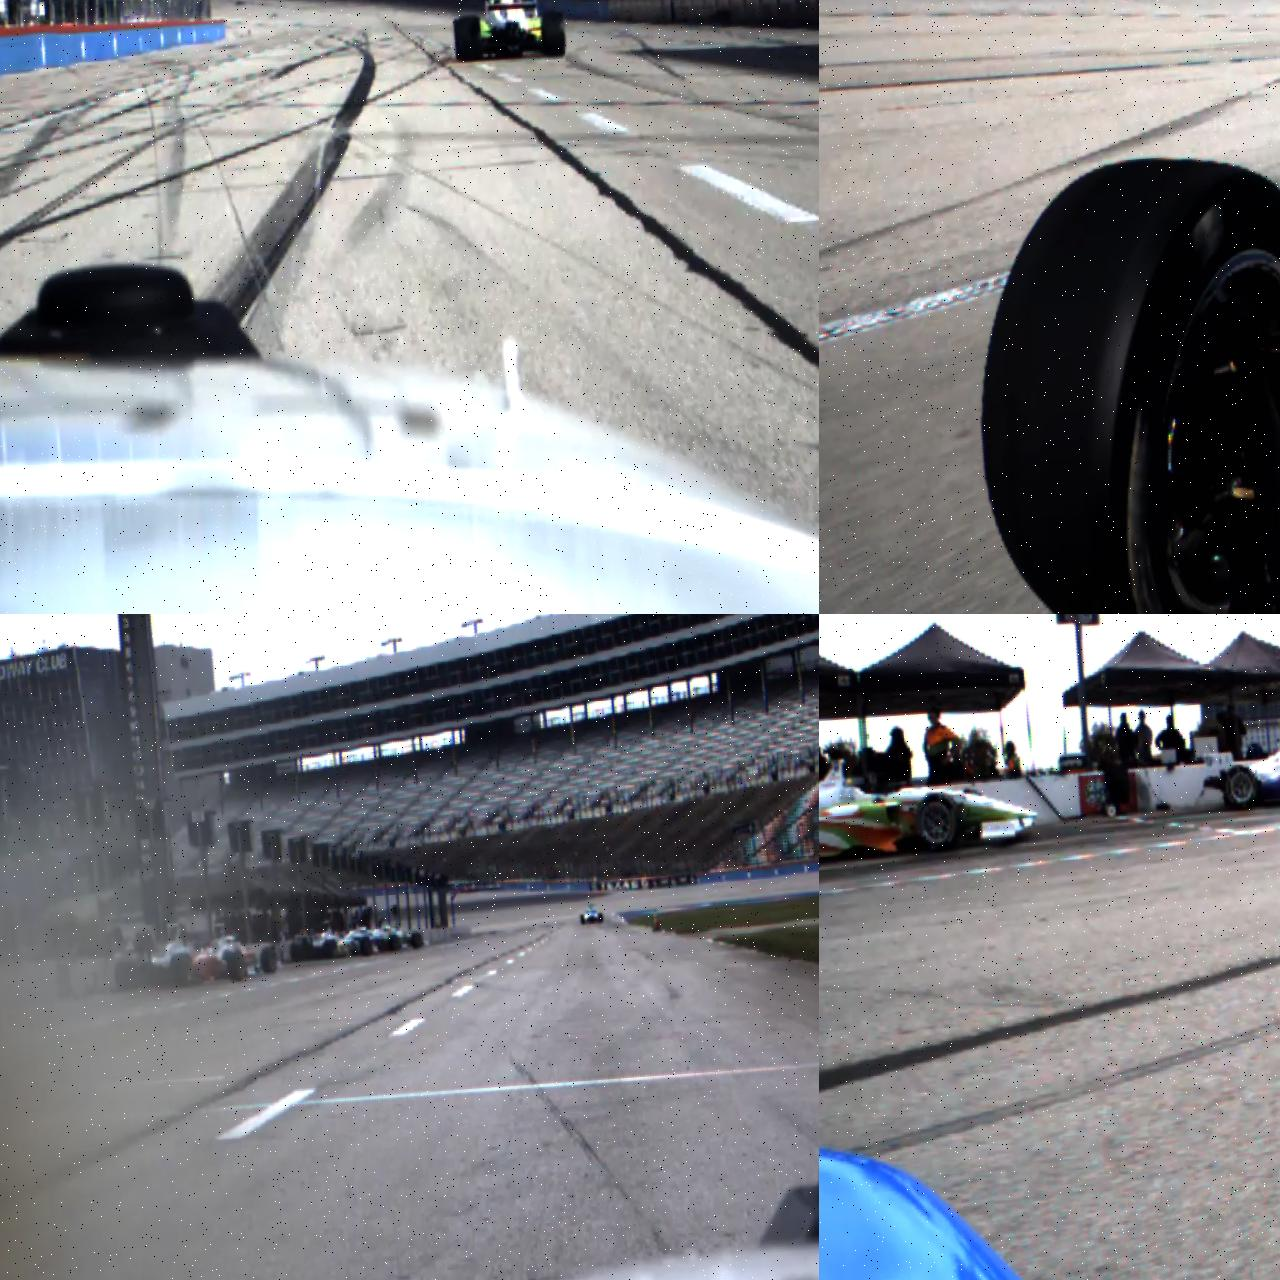AV: (819, 729, 1040, 878), (450, 0, 567, 64), (1217, 710, 1280, 813), (579, 903, 604, 925)
Wheel: (964, 145, 1280, 614), (914, 790, 964, 856), (1220, 763, 1260, 812), (454, 16, 484, 63), (542, 11, 566, 57), (114, 960, 139, 990), (171, 956, 193, 985), (227, 952, 246, 981), (260, 946, 278, 974), (322, 940, 338, 959), (388, 934, 401, 952), (360, 939, 373, 956), (411, 932, 423, 949), (599, 913, 604, 922), (580, 914, 585, 924)
